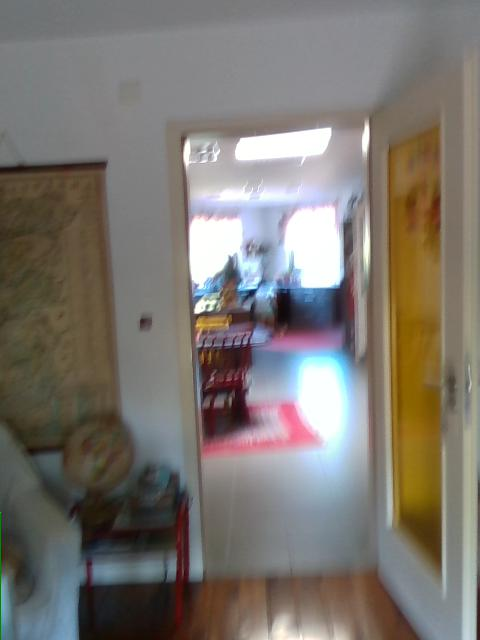open_door: (172, 111, 386, 580)
